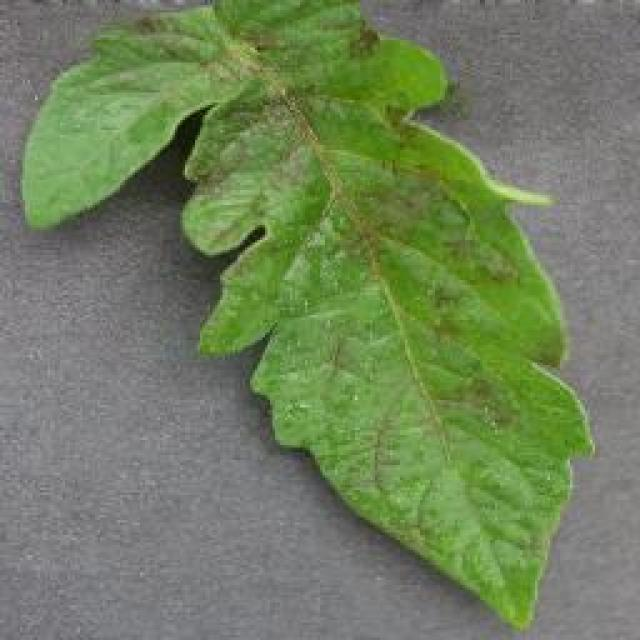Tomato Late Blight: (178, 8, 575, 517)
